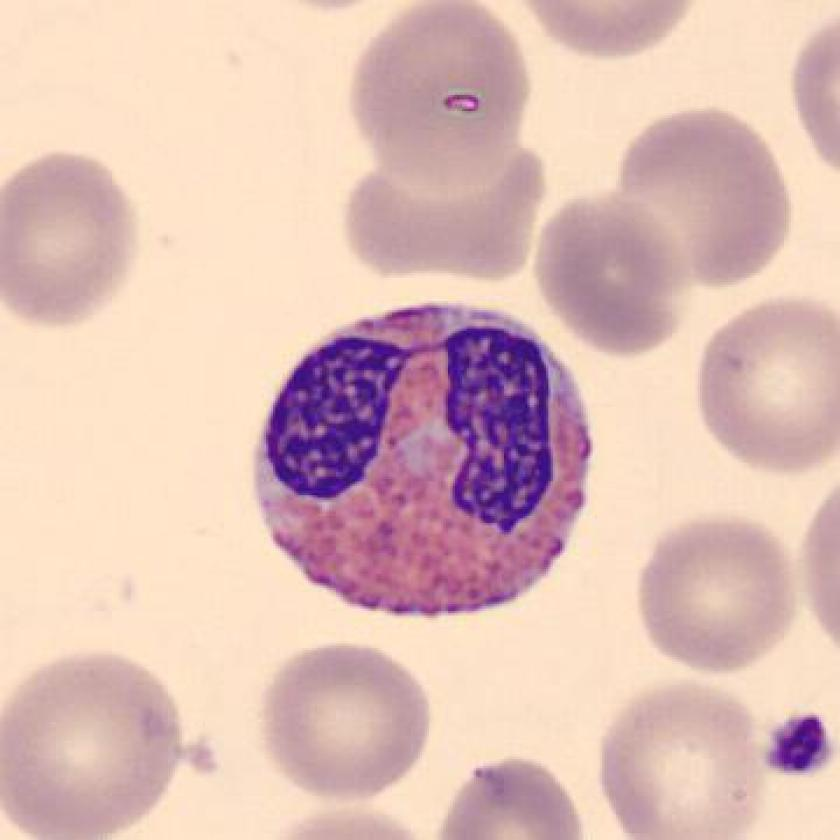eosinophil: (246, 291, 608, 631)
